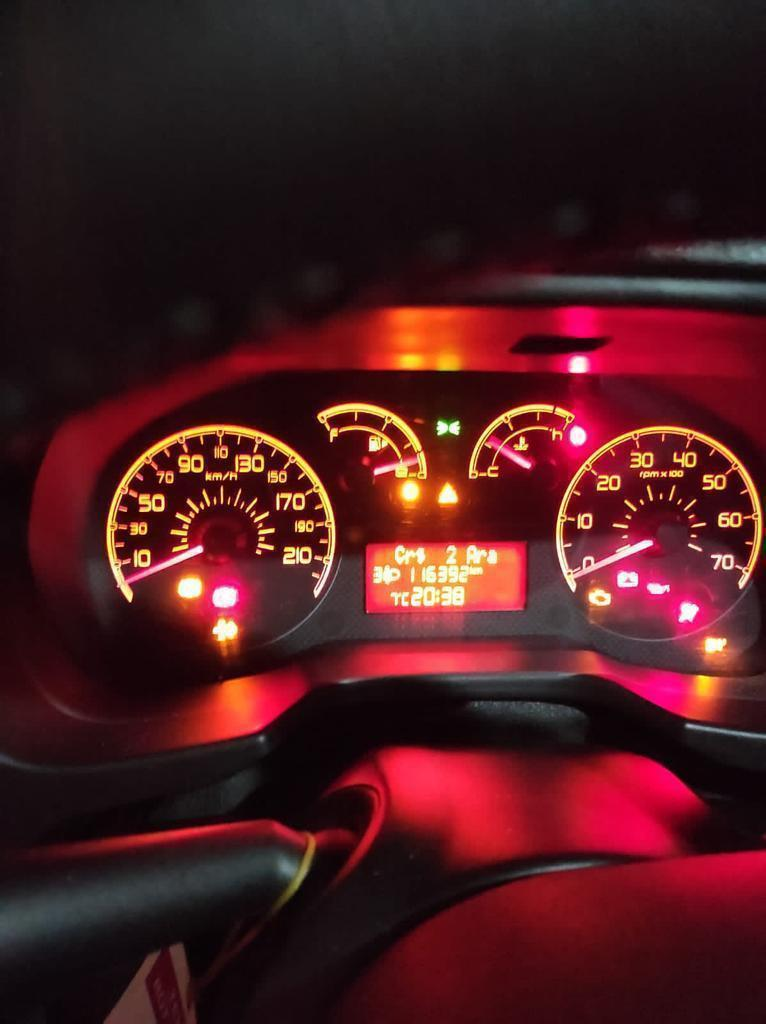0: (423, 585, 435, 606)
1: (409, 565, 415, 582), (421, 566, 426, 583)
2: (411, 585, 423, 607), (445, 543, 456, 563), (459, 565, 469, 583)
3: (441, 585, 452, 606), (372, 566, 382, 583), (437, 565, 447, 582)
6: (426, 564, 436, 582)
7: (390, 591, 398, 606)
8: (452, 585, 464, 605)
9: (448, 564, 458, 583)
X: (466, 544, 477, 564), (394, 544, 404, 564), (415, 546, 426, 563), (405, 549, 415, 564), (487, 548, 497, 563), (477, 548, 486, 563), (401, 591, 409, 606), (435, 587, 440, 604), (476, 565, 483, 575), (469, 564, 475, 575)
odometer: (360, 539, 531, 618)
